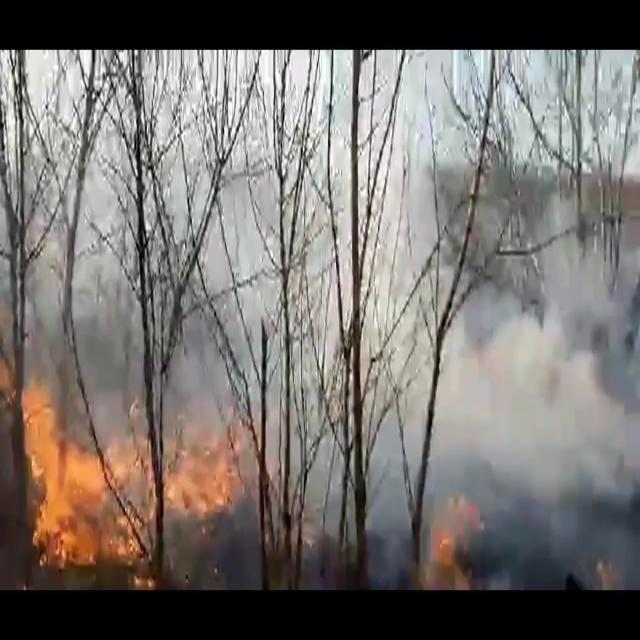Fire: (2, 296, 262, 570)
Smoke: (353, 145, 638, 584)
